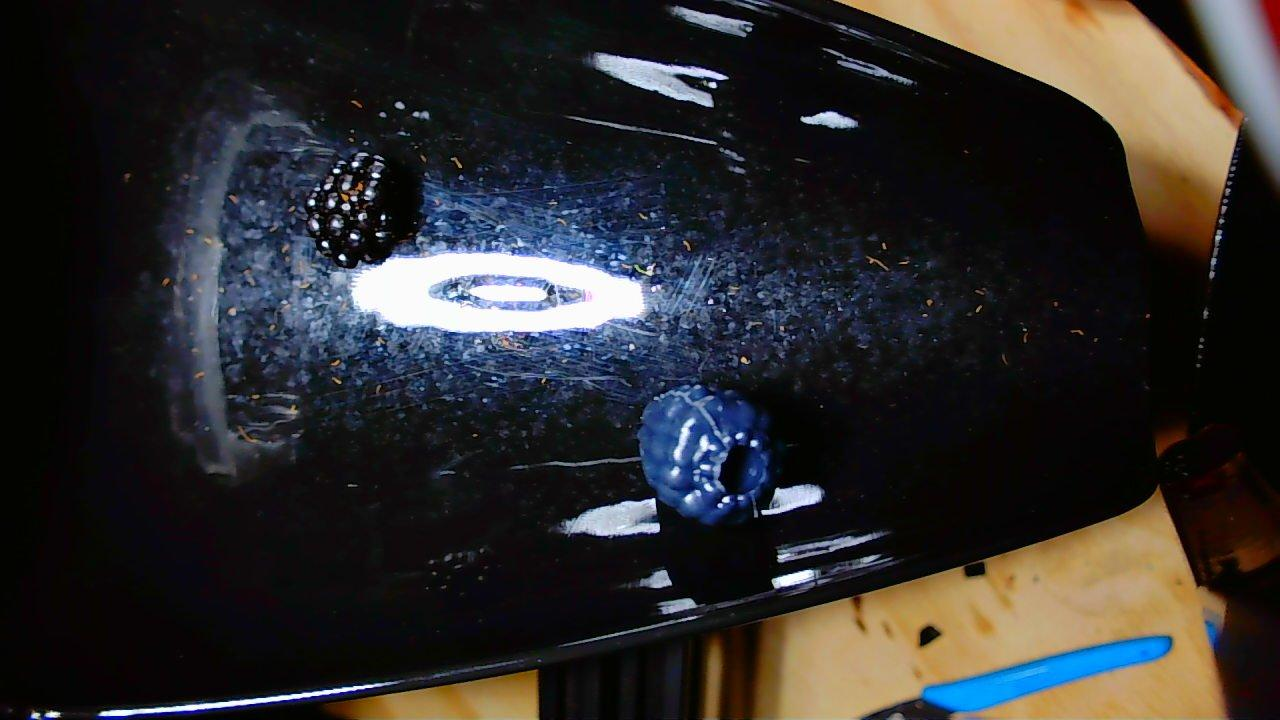berry: (637, 384, 780, 526), (306, 152, 416, 268)
